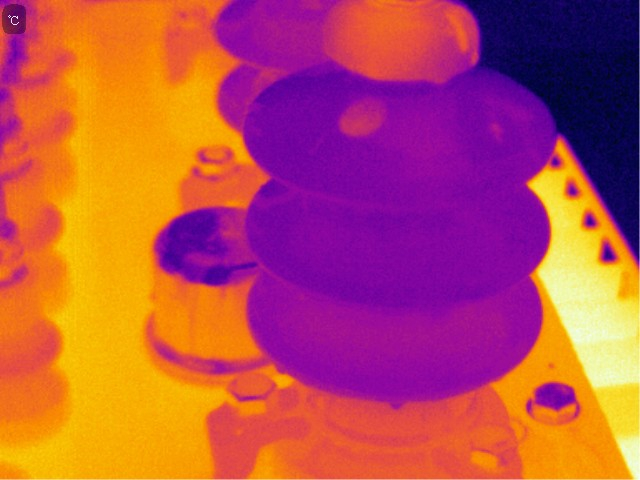Oil: (322, 1, 486, 88), (334, 93, 390, 140), (485, 117, 507, 147), (388, 396, 406, 411)
